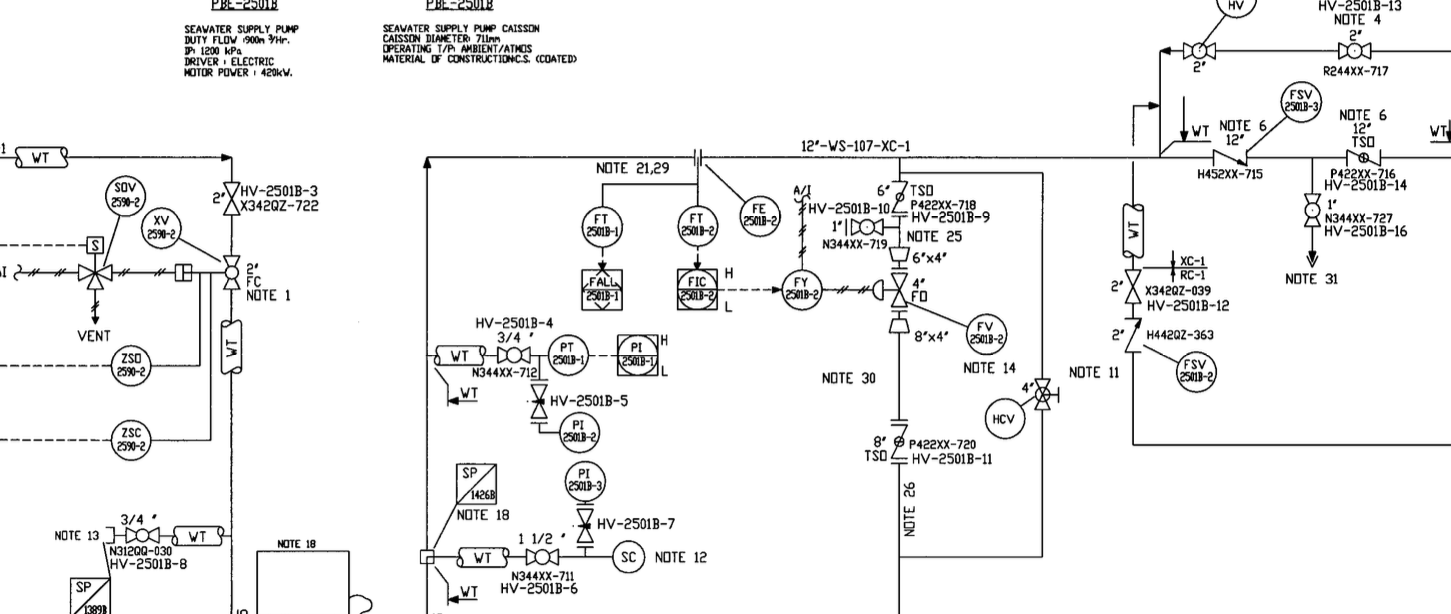Instrument: (565, 201, 632, 252), (1169, 348, 1222, 399), (1276, 76, 1326, 129), (670, 202, 723, 251), (105, 414, 157, 462), (736, 189, 784, 241), (960, 309, 1013, 356), (108, 342, 157, 390), (139, 205, 187, 253), (97, 174, 148, 218), (558, 461, 610, 504), (555, 410, 604, 455)
Instrument-square: (575, 263, 630, 318), (610, 329, 664, 379), (672, 262, 722, 314)
